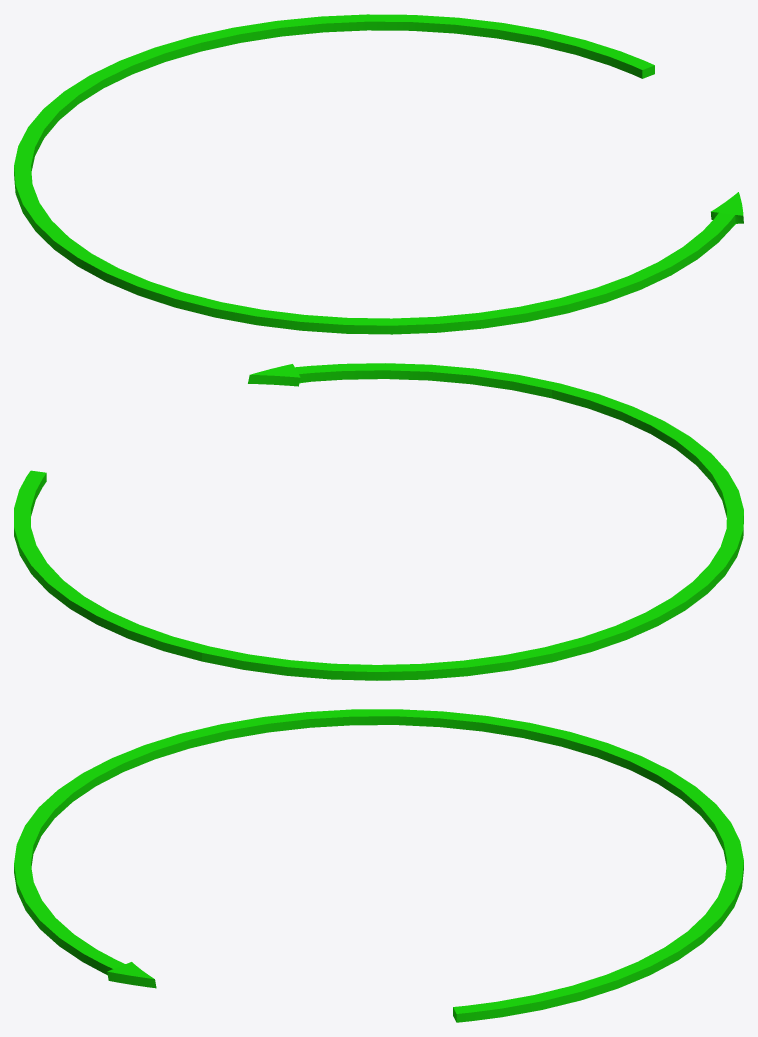
The model's file is Green Curve.fbx.
3 renders of one model, top to bottom at view 1: azimuth 30°, elevation 25°; view 2: azimuth 150°, elevation 25°; view 3: azimuth 270°, elevation 25°, orthographic.
Parts seen in each view (by area): view 1: Plane; view 2: Plane; view 3: Plane.
Boxes of the visible parts, x1,y1,x2,y2 form: Plane: (14, 14, 743, 334); Plane: (14, 363, 743, 680); Plane: (14, 709, 743, 1022).
Size of the model in its own units: 1877 by 30.04 by 1899.
